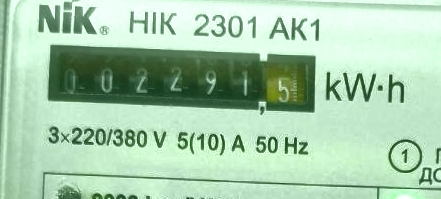0: (60, 63, 79, 92), (98, 64, 115, 93)
1: (237, 65, 252, 99)
2: (133, 64, 150, 94), (168, 63, 183, 92)
5: (275, 73, 292, 103)
9: (202, 65, 219, 96)
screen: (43, 38, 321, 118)
